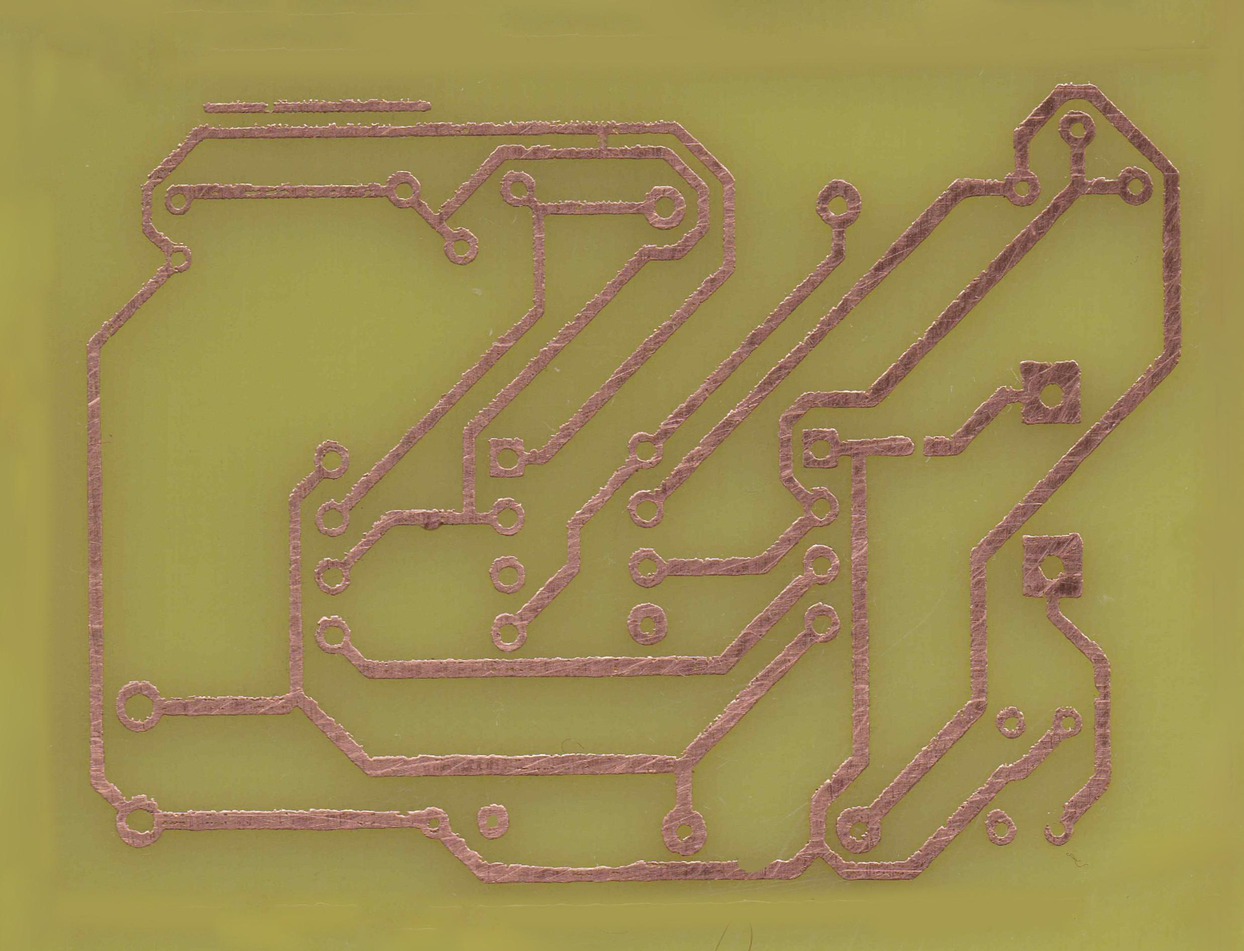missing_hole: (1041, 812, 1073, 850)
mouse_bite: (731, 853, 781, 885)
open_circuit: (898, 430, 937, 460)
short: (588, 113, 618, 164)
spur: (417, 503, 446, 535)
spurious_copper: (198, 98, 435, 117)
